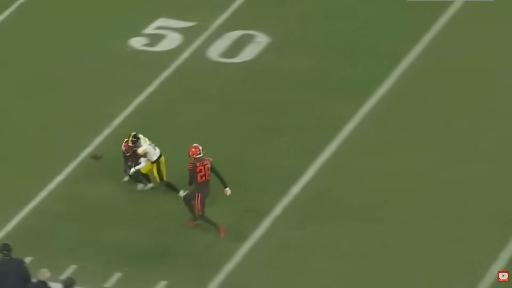Helmet: (189, 144, 203, 159), (122, 139, 134, 155), (128, 133, 141, 147)
Jersey: (188, 158, 227, 188), (137, 135, 160, 162), (121, 150, 139, 160)
Player: (183, 144, 230, 237), (128, 133, 179, 193), (122, 139, 153, 189)
